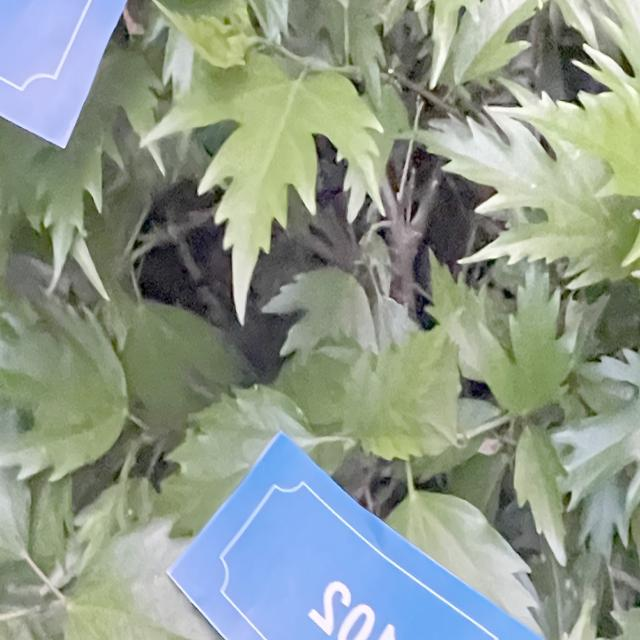Card: (163, 407, 566, 640), (0, 0, 161, 187)
